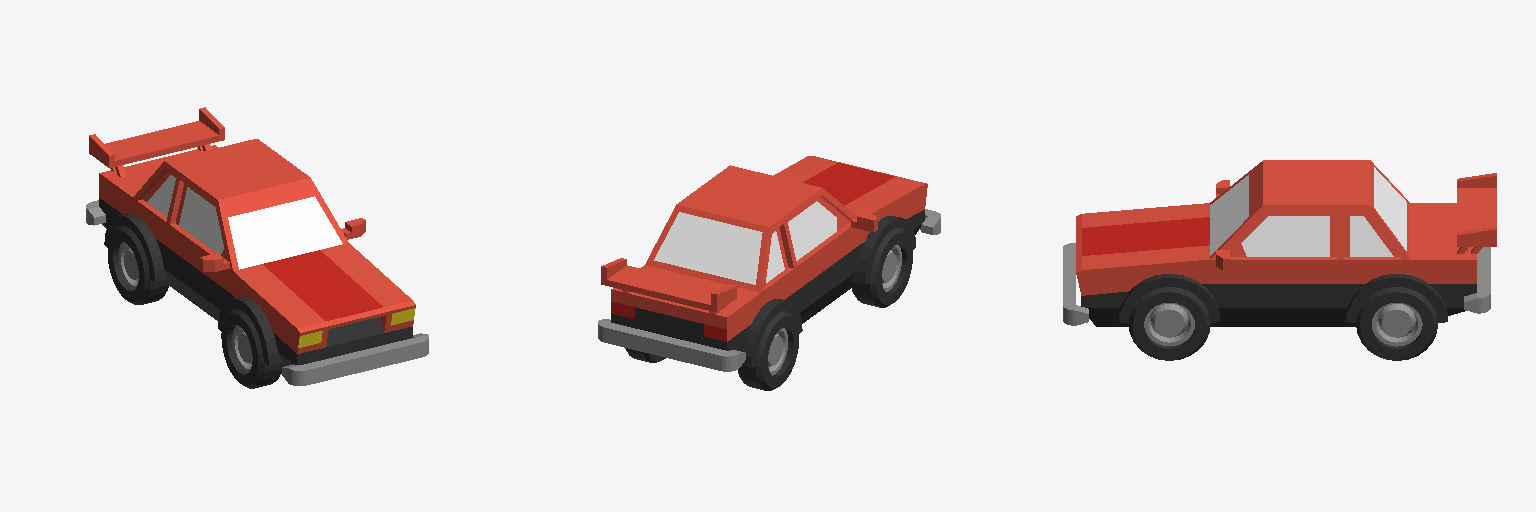
File: car_sports_red.obj
The picture shows the model from 3 angles: view 1: azimuth 30°, elevation 25°; view 2: azimuth 150°, elevation 25°; view 3: azimuth 270°, elevation 25°; orthographic projection.
Parts seen in each view (by area): view 1: mergedBlocks; view 2: mergedBlocks; view 3: mergedBlocks.
Part boxes in pixels (x1,y1,x2,y2): mergedBlocks: (86,107,428,388); mergedBlocks: (598,156,940,390); mergedBlocks: (1063,160,1496,360).
Bounding box in the file's own units: 1.4 × 1.21 × 3.25.